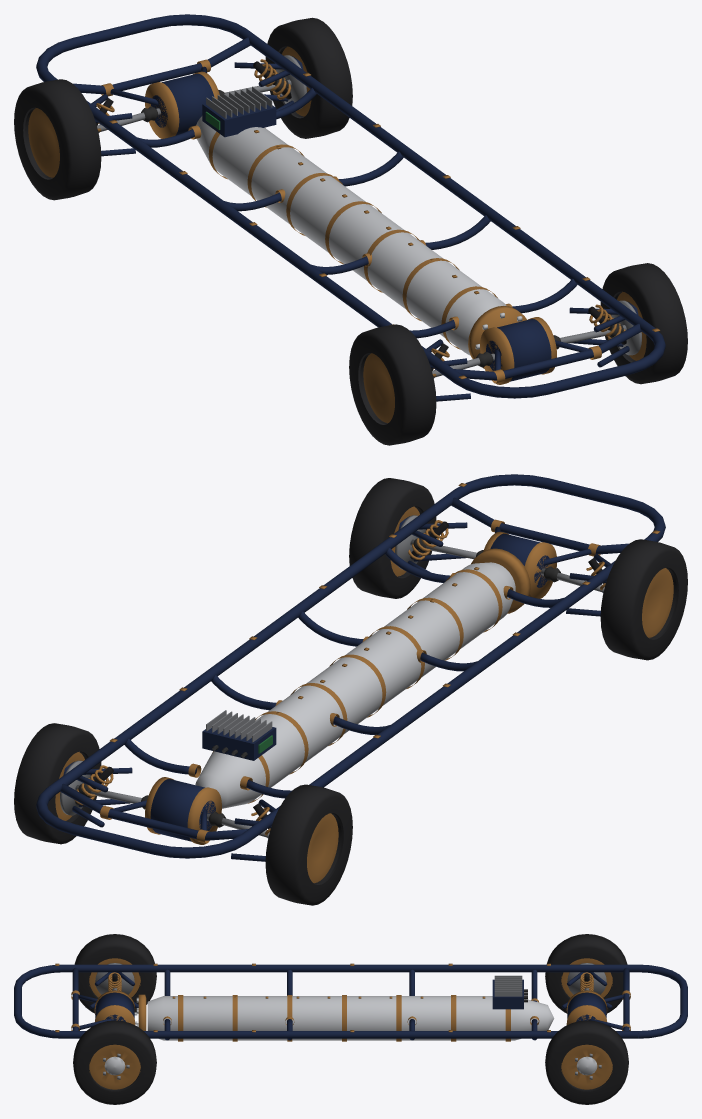
The model's file is carrow_k36.glb.
The picture shows the model from 3 angles, top to bottom: view 1: azimuth 30°, elevation 25°; view 2: azimuth 150°, elevation 25°; view 3: azimuth 270°, elevation 25°; orthographic projection. The views are drawn at different scales.
Parts seen in each view (by area): view 1: keel, gunwale, wheel_BL, wheel_FL, wheel_FR, wheel_BR, motor_B, motor_F, controller, bulkhead_B, bulkhead_F, corner_BR (+4 smaller); view 2: keel, gunwale, wheel_FL, wheel_BL, wheel_BR, wheel_FR, motor_F, motor_B, controller, bulkhead_F, bulkhead_B, corner_BR (+5 smaller); view 3: keel, gunwale, wheel_BR, wheel_FR, wheel_FL, wheel_BL, controller, motor_B, motor_F, corner_FL, corner_BL, bulkhead_F (+2 smaller).
Part boxes in pixels (x1,y1,x2,y2): keel: (196, 116, 506, 355); gunwale: (36, 14, 665, 398); wheel_BL: (349, 324, 436, 445); wheel_FL: (14, 79, 101, 200); wheel_FR: (265, 17, 352, 138); wheel_BR: (600, 263, 687, 384); motor_B: (432, 317, 626, 384); motor_F: (97, 71, 291, 138); controller: (202, 86, 276, 137); bulkhead_B: (454, 323, 641, 383); bulkhead_F: (73, 37, 250, 105); corner_BR: (569, 300, 641, 367); keel: (195, 562, 515, 808); gunwale: (36, 474, 665, 858); wheel_FL: (265, 784, 352, 905); wheel_BL: (600, 539, 687, 660); wheel_BR: (349, 478, 436, 598); wheel_FR: (14, 723, 101, 844); motor_F: (75, 777, 269, 844); motor_B: (410, 531, 604, 598); controller: (202, 710, 276, 760); bulkhead_F: (60, 783, 247, 843); bulkhead_B: (451, 497, 628, 565); corner_BR: (395, 515, 467, 572); keel: (147, 995, 554, 1041); gunwale: (14, 963, 687, 1038); wheel_BR: (73, 1020, 156, 1104); wheel_FR: (545, 1020, 628, 1104); wheel_FL: (545, 934, 627, 1013); wheel_BL: (74, 934, 156, 1013); controller: (492, 975, 527, 1009); motor_B: (94, 988, 135, 1024); motor_F: (566, 988, 607, 1025); corner_FL: (561, 963, 612, 1008); corner_BL: (89, 963, 138, 1008); bulkhead_F: (588, 967, 630, 1030).
Bounding box in the file's own units: 1.76 × 0.64 × 5.14.
